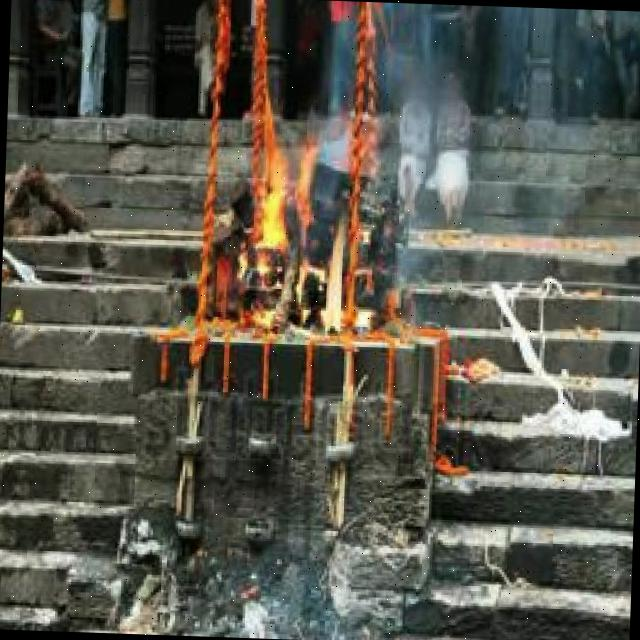fire: (242, 120, 367, 330)
